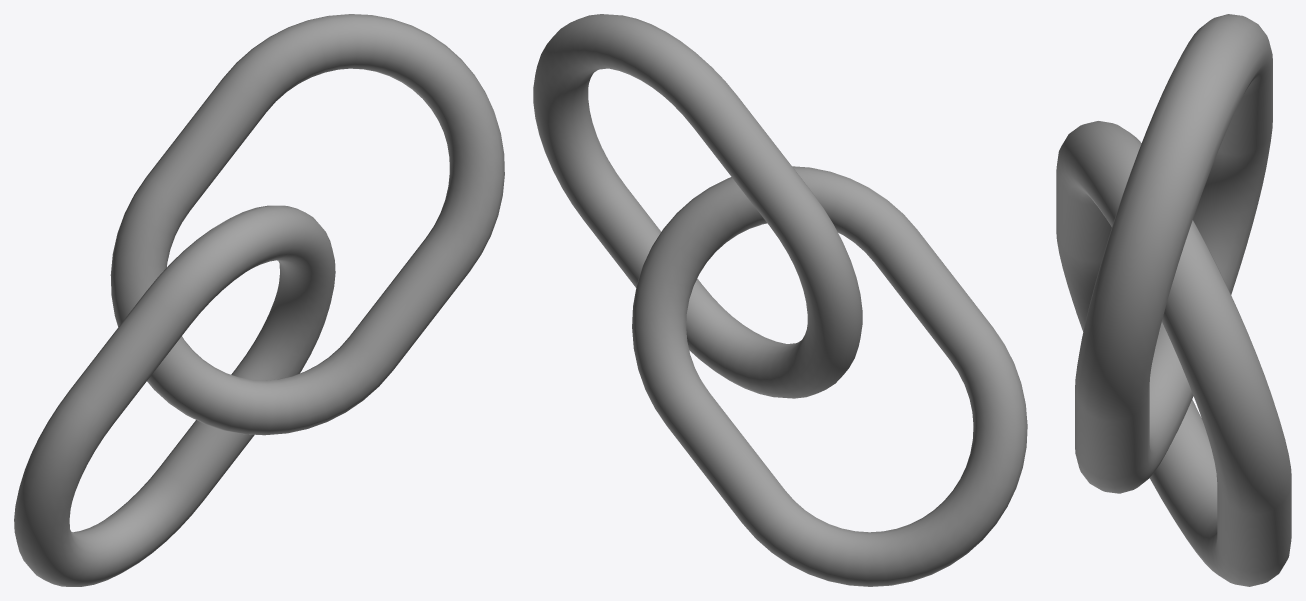
3 views of the same model, side by side, from view 1: azimuth 30°, elevation 25°; view 2: azimuth 150°, elevation 25°; view 3: azimuth 270°, elevation 25° (orthographic). The views are drawn at different scales.
Visible parts, largest first — view 1: Torus.010; view 2: Torus.010; view 3: Torus.010.
Boxes of the visible parts, x1=… form: Torus.010: x1=14, y1=14, x2=504, y2=586; Torus.010: x1=533, y1=14, x2=1027, y2=586; Torus.010: x1=1056, y1=14, x2=1291, y2=586.
Size of the model in its own units: 2.11 by 2.11 by 0.6617.
Materials: 1 (1 with a texture image).
